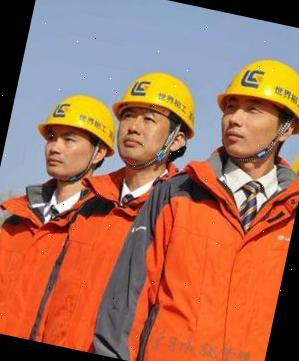helmet: (108, 58, 210, 134), (213, 47, 299, 131), (32, 86, 124, 154)
wear: (94, 159, 299, 361), (35, 161, 187, 354), (0, 184, 97, 340)
